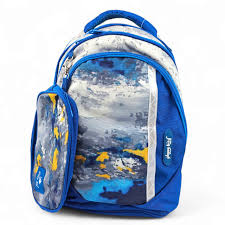bag: (44, 17, 186, 215)
